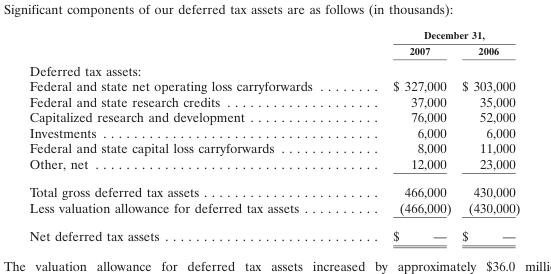table: (28, 28, 519, 243)
table column: (28, 28, 352, 243), (352, 28, 455, 243), (455, 28, 519, 243)
table column header: (28, 28, 519, 59)
table projected row header: (28, 59, 519, 77)
table row: (28, 155, 519, 177), (28, 177, 519, 199), (28, 199, 519, 221), (28, 221, 519, 243), (28, 59, 519, 77), (28, 42, 519, 59), (28, 77, 519, 93), (28, 108, 519, 124), (28, 139, 519, 155), (28, 93, 519, 108), (28, 124, 519, 139), (28, 28, 519, 42)
table spanning cell: (352, 28, 519, 42)
